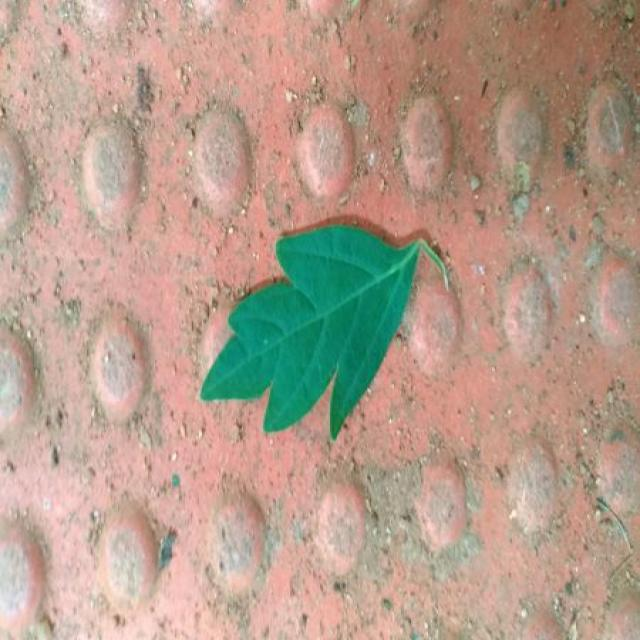balloon_Vine: (202, 225, 447, 437)
